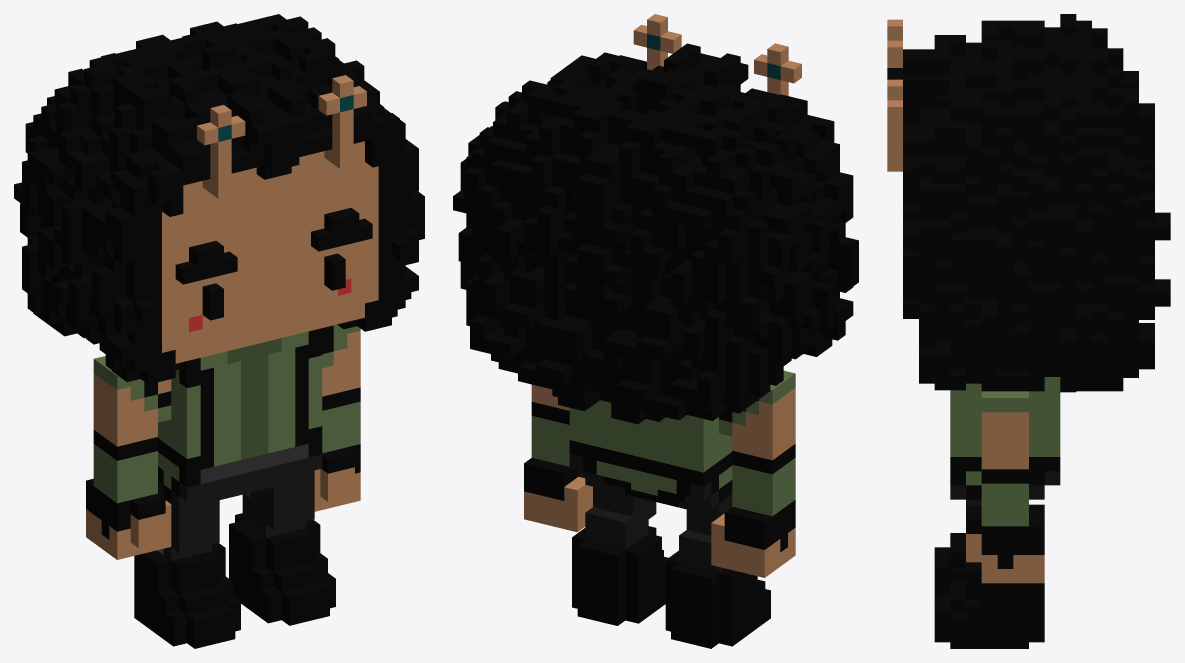
Rendered from asset.glb.
3 views of the same model, side by side, from view 1: azimuth 30°, elevation 25°; view 2: azimuth 150°, elevation 25°; view 3: azimuth 270°, elevation 25° (orthographic).
Visible parts, largest first — view 1: Cube.2147; view 2: Cube.2147; view 3: Cube.2147.
Boxes of the visible parts, x1,y1,x2,y2 form: Cube.2147: (14,14,424,648); Cube.2147: (453,14,858,648); Cube.2147: (887,14,1170,648).
Size of the model in its own units: 24 by 39 by 18.
